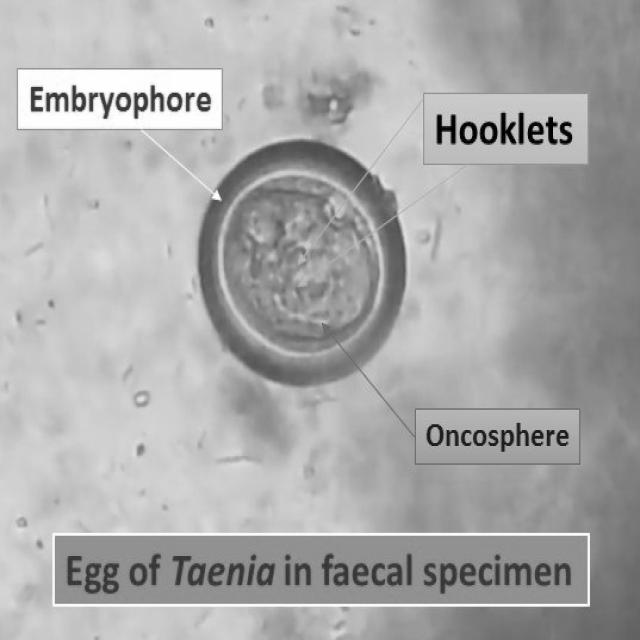Taenia Sp: (194, 134, 411, 392)
